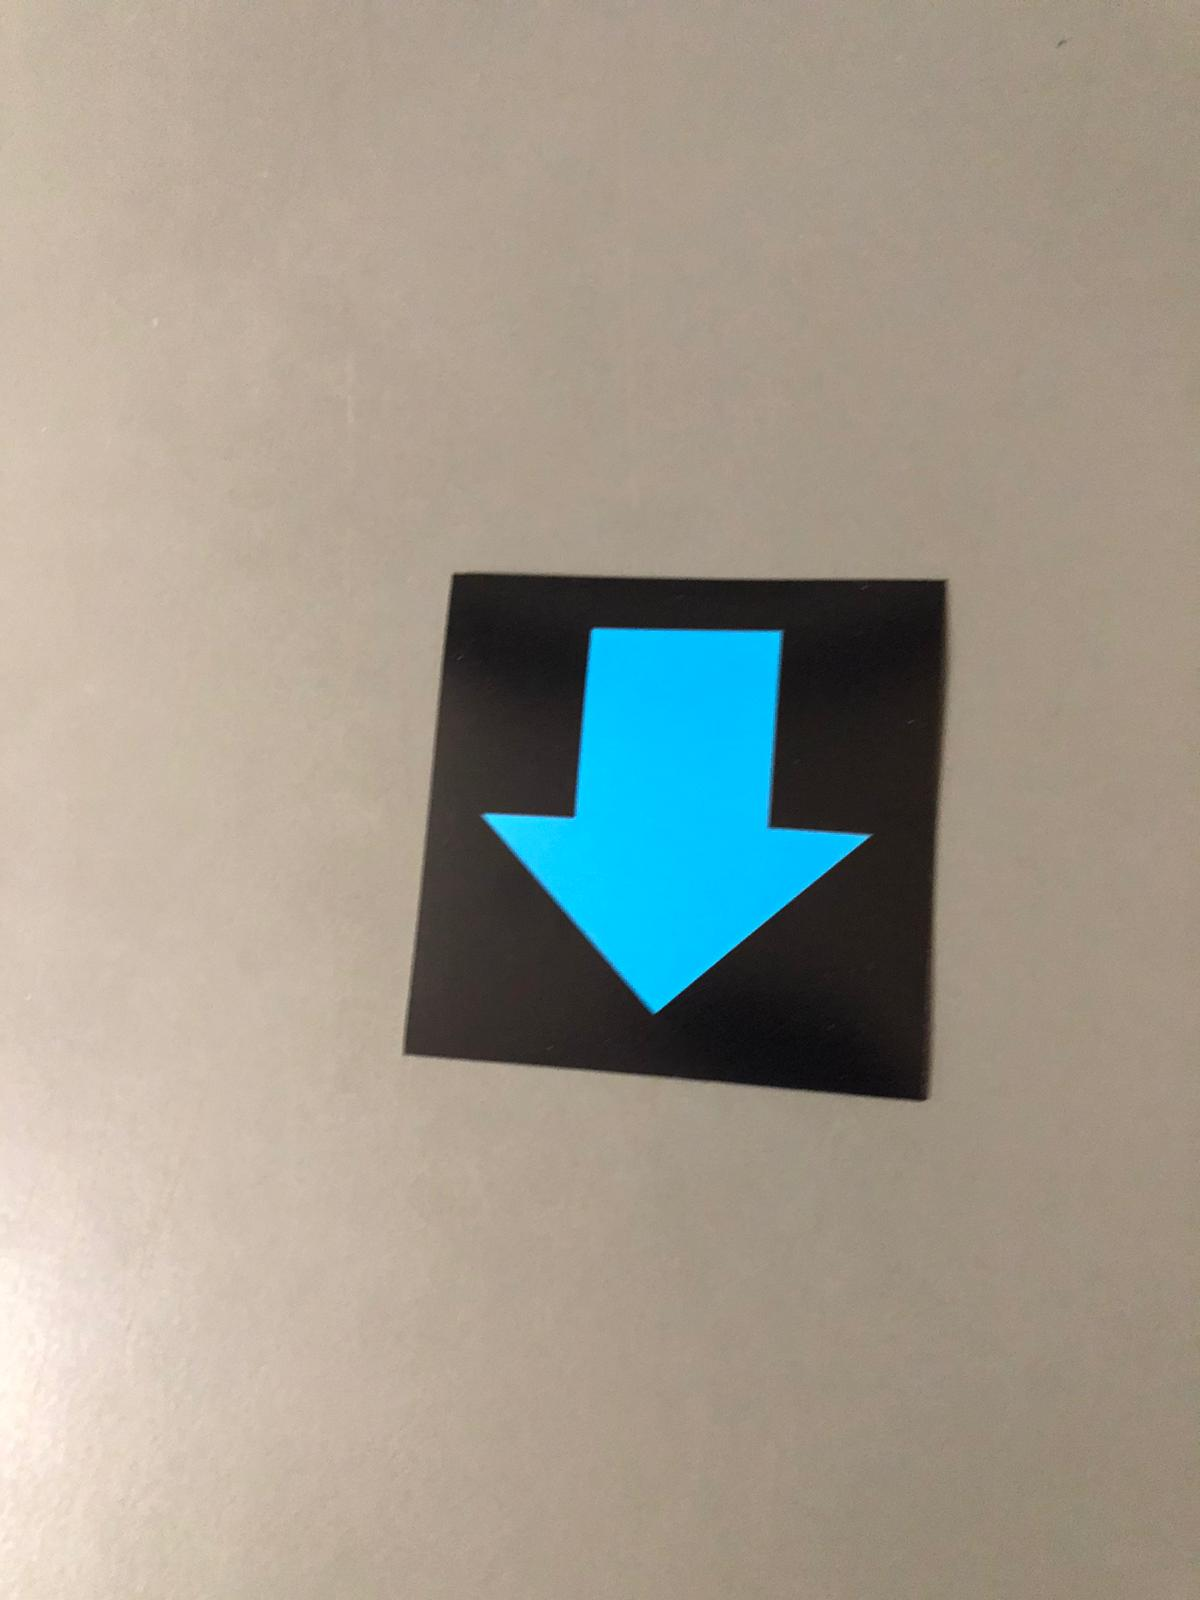Down Arrow: (455, 593, 886, 1060)
